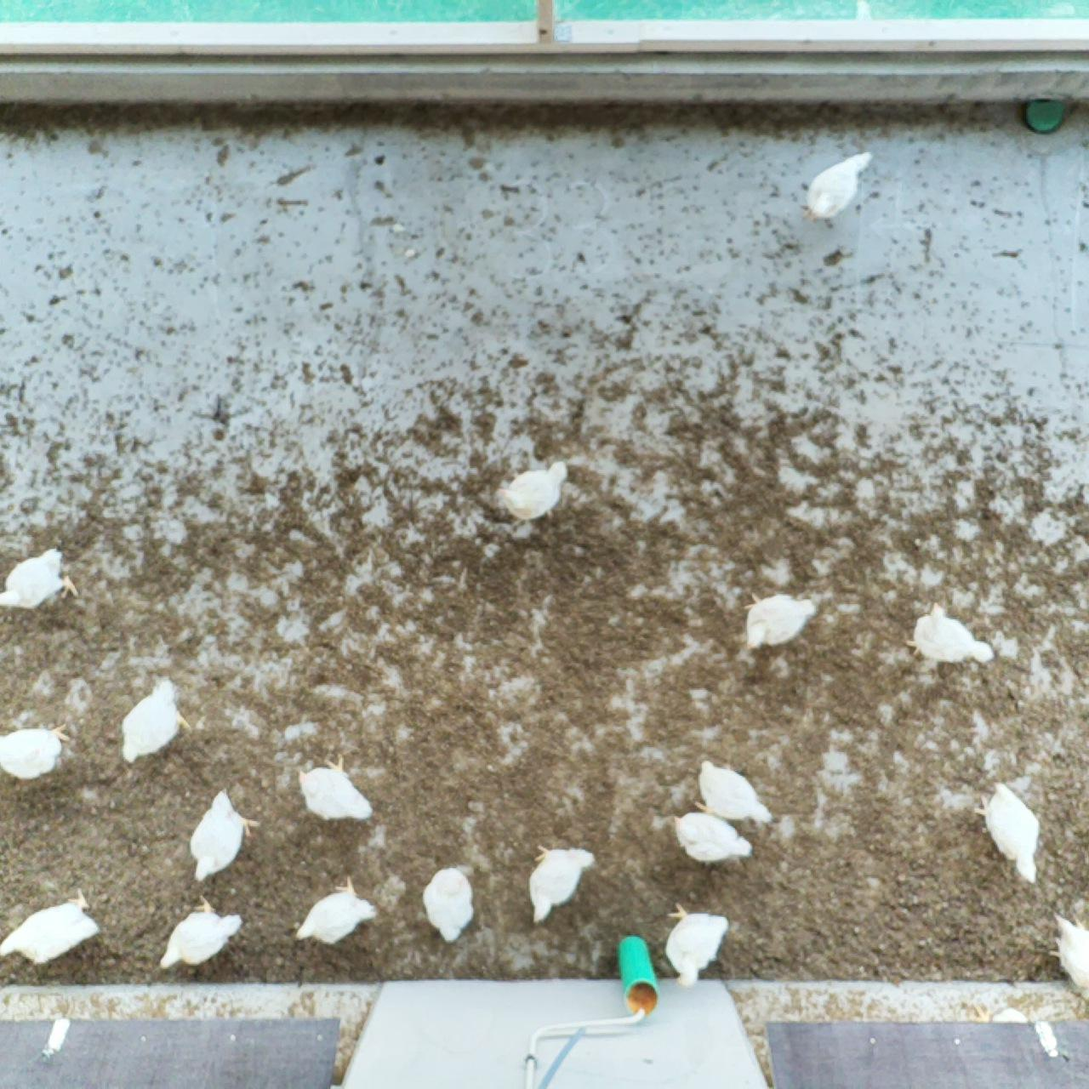chicken: (0, 883, 105, 970), (971, 778, 1046, 892), (182, 783, 265, 886), (155, 890, 248, 972), (116, 673, 193, 772), (903, 598, 997, 672), (293, 872, 379, 952), (296, 748, 381, 828), (662, 898, 733, 992), (800, 145, 877, 230), (523, 842, 598, 926), (492, 457, 575, 528), (692, 757, 776, 826), (739, 587, 820, 656), (0, 544, 81, 613), (418, 861, 479, 945), (669, 811, 756, 869), (0, 719, 76, 783), (1046, 910, 1089, 1003)
